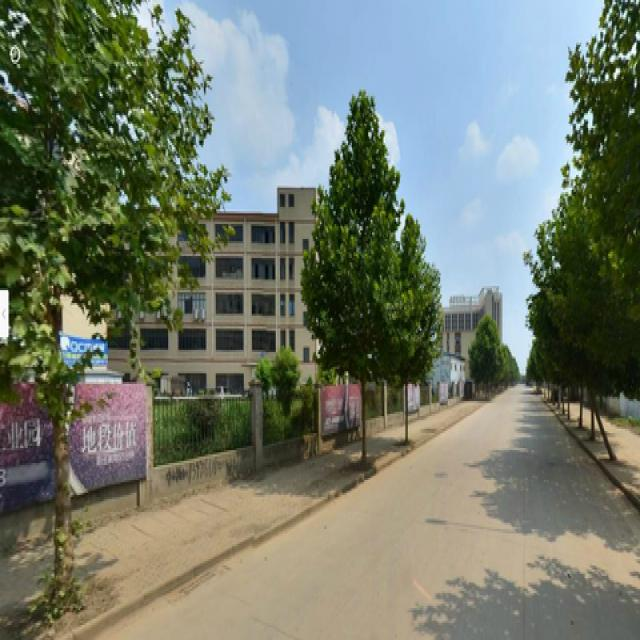meta: (8, 15, 132, 574), (318, 90, 391, 463), (394, 224, 429, 452)
